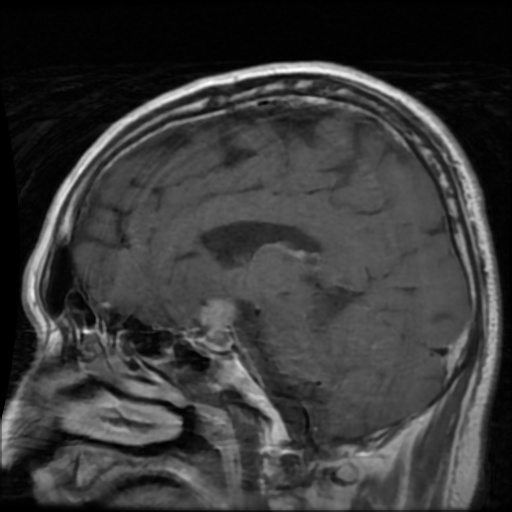pituitary: (202, 297, 233, 348)
